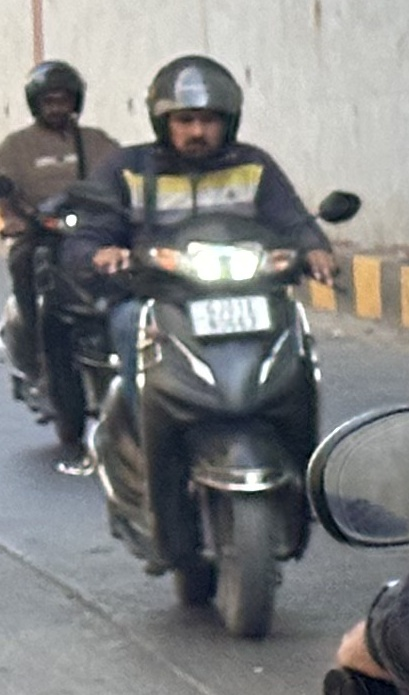BikeWithRider: (49, 50, 361, 637), (0, 55, 123, 435)
Helmet: (140, 54, 249, 162), (22, 59, 89, 130)
